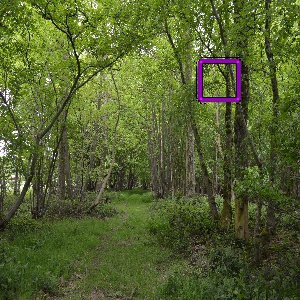square: (193, 57, 243, 104)
